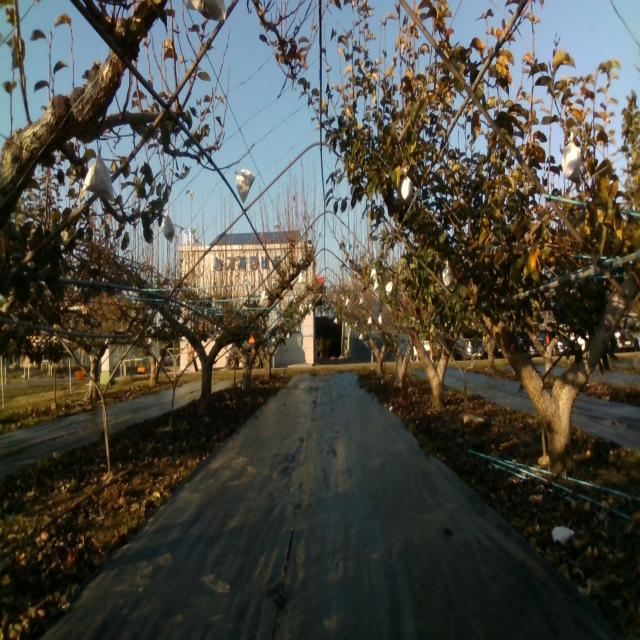pearbags: (83, 154, 115, 201), (562, 141, 582, 184), (235, 168, 255, 204), (161, 211, 174, 242), (400, 175, 414, 203), (442, 260, 454, 286)
